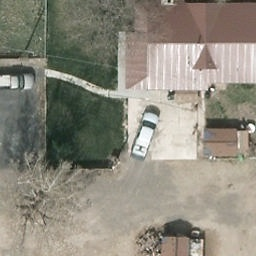car: (131, 111, 162, 163)
pickup: (0, 74, 35, 91)
